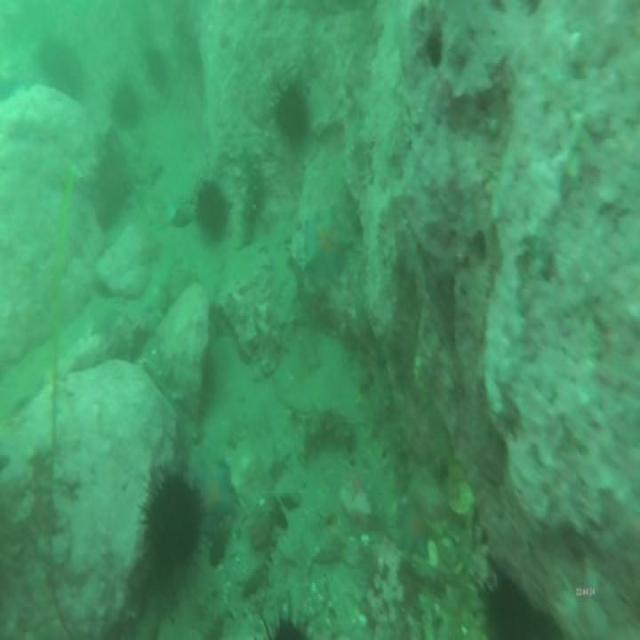echinus: (134, 463, 210, 575), (475, 569, 536, 640), (88, 158, 135, 229), (190, 172, 232, 248), (38, 41, 88, 104), (270, 79, 310, 147), (255, 602, 317, 640), (110, 81, 142, 131), (144, 42, 171, 94)
holothurian: (302, 398, 359, 463), (237, 145, 263, 248)
starfish: (299, 202, 356, 292), (191, 458, 238, 536)
